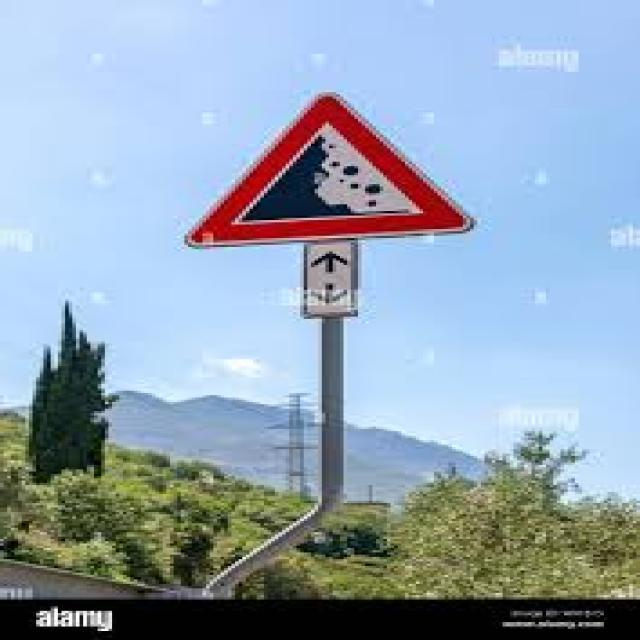falling rocks: (178, 91, 475, 240)
